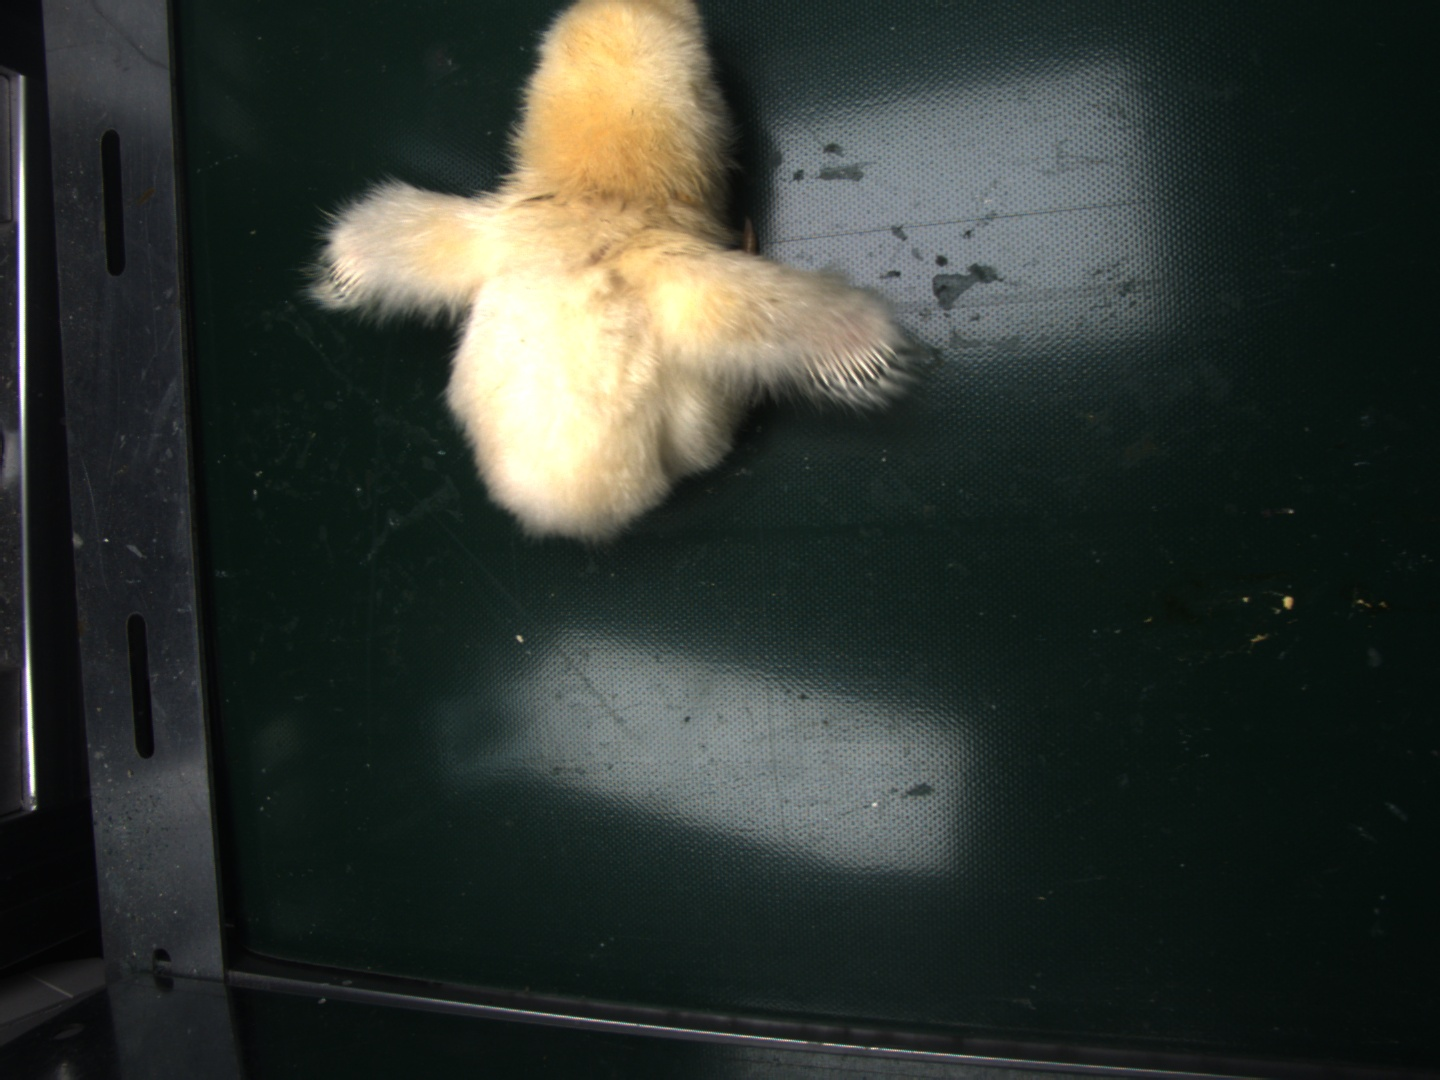male: (808, 338, 893, 393)
